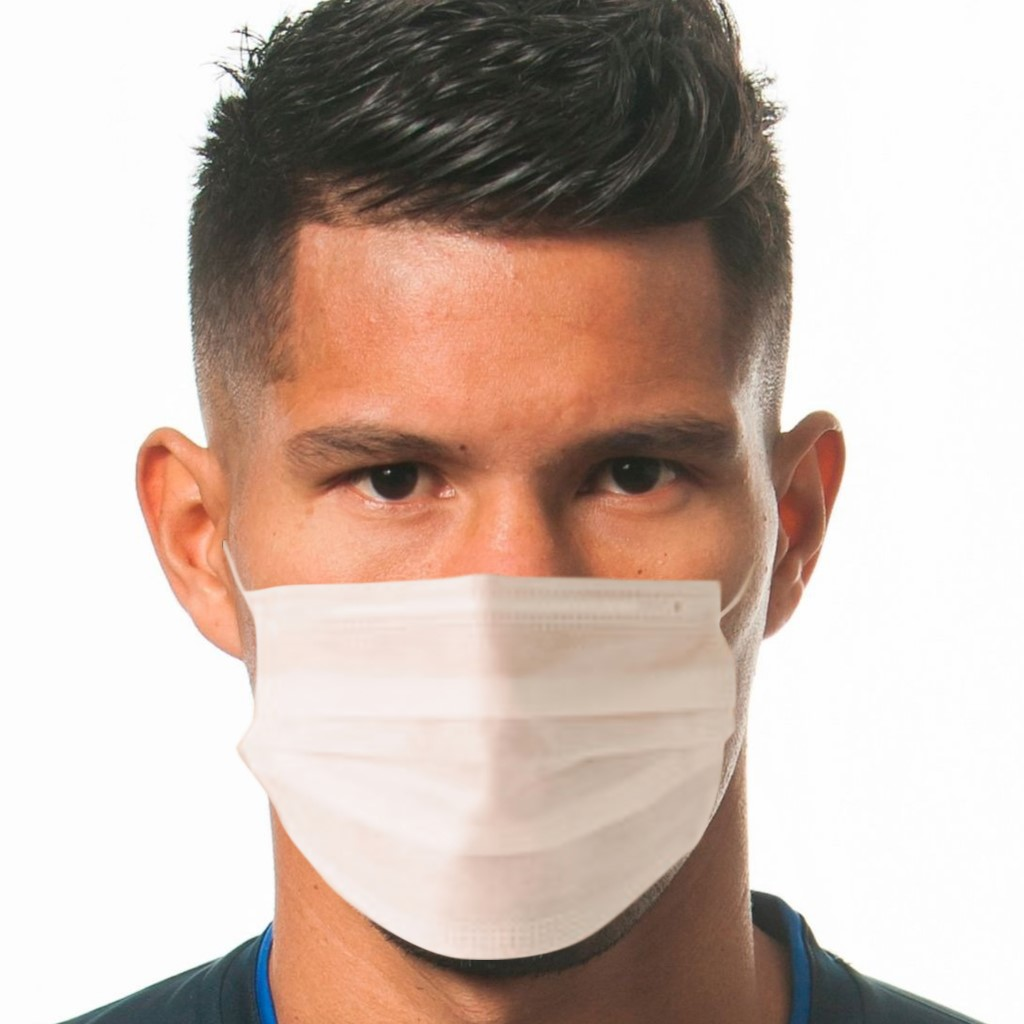con_mascara: (214, 157, 797, 959)
